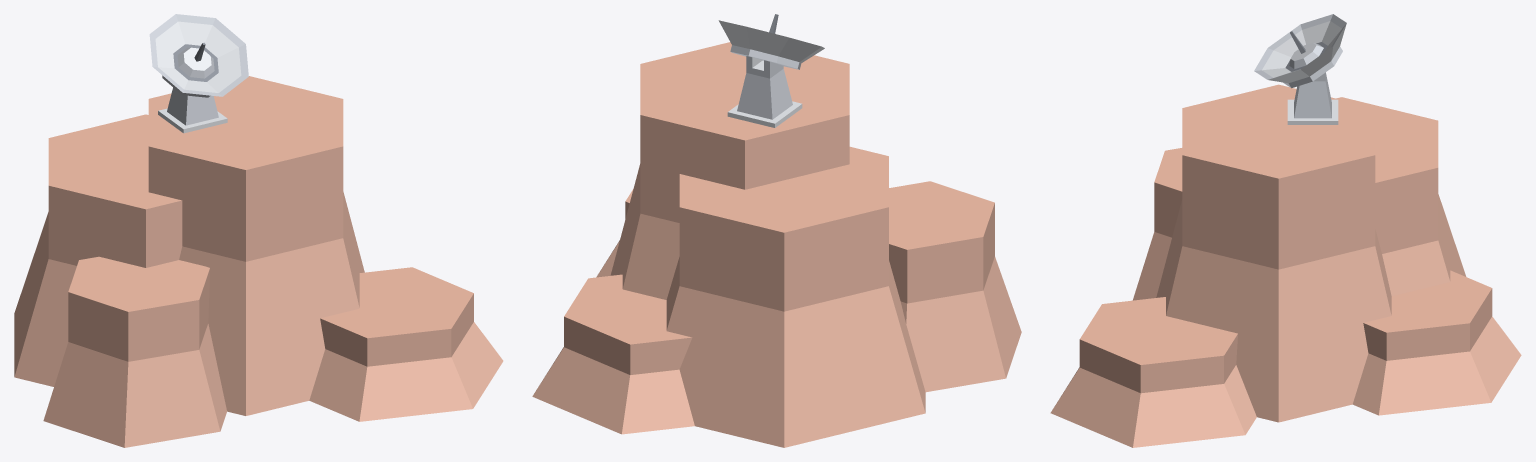
File: mountain4.glb
3 views of the same model, side by side, from view 1: azimuth 30°, elevation 25°; view 2: azimuth 150°, elevation 25°; view 3: azimuth 270°, elevation 25° (orthographic). The views are drawn at different scales.
Parts seen in each view (by area): view 1: rock_largeB, satelliteDish_large.001; view 2: rock_largeB, satelliteDish_large.001; view 3: rock_largeB, satelliteDish_large.001.
Part boxes in pixels (x1,y1,x2,y2): rock_largeB: (14,76,503,447); satelliteDish_large.001: (149,14,248,133); rock_largeB: (532,42,1021,447); satelliteDish_large.001: (718,14,824,127); rock_largeB: (1050,84,1521,447); satelliteDish_large.001: (1254,14,1346,124).
Bounding box in the file's own units: 11.64 × 8.8 × 11.78.
